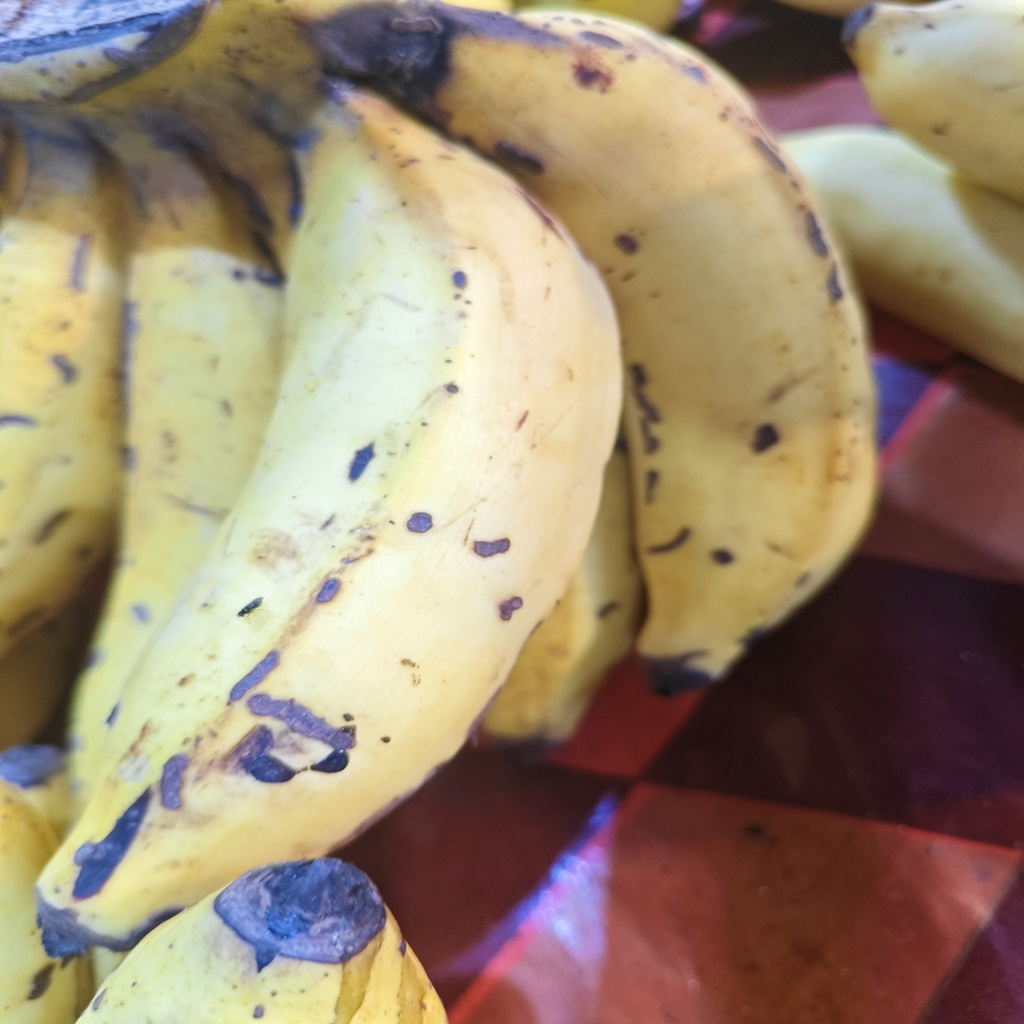unhealthy: (40, 111, 621, 957), (423, 8, 880, 679)
